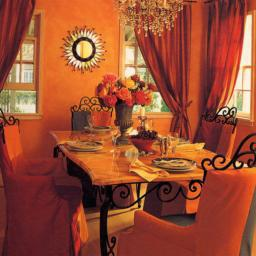Ventana: (118, 10, 186, 120), (211, 11, 250, 124), (0, 15, 40, 117)
